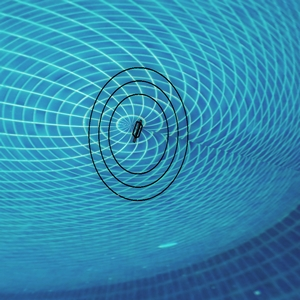submarine: (134, 122, 148, 140)
